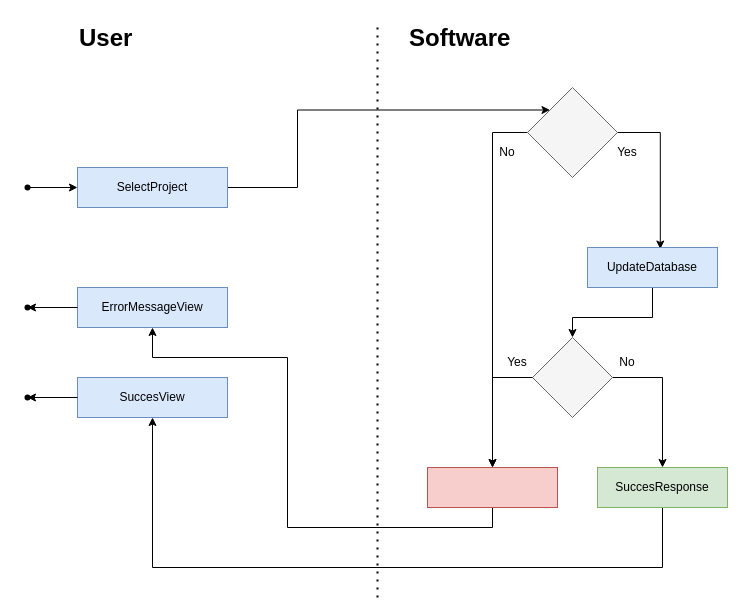
Image size: 745x616. Some labels were removed from this diagram. The centre of each missing label's shape, as x and y in pixels:
"DbError" goes at (x=572, y=377).
"ErrorResponse" goes at (x=492, y=487).
"IsAuthorized Owner" goes at (x=572, y=132).
